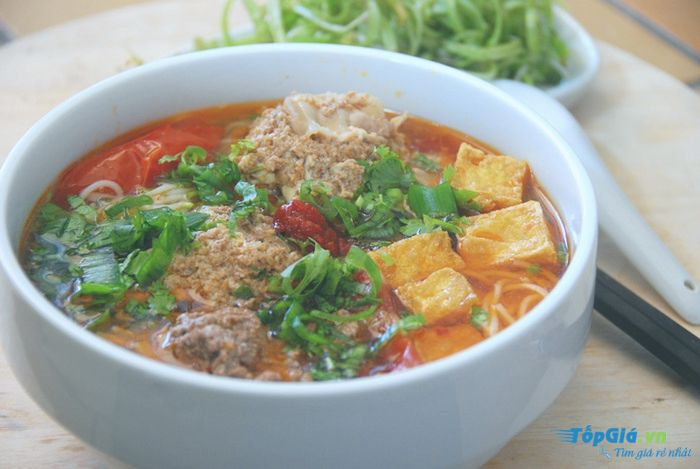onion: (48, 206, 140, 290)
rieu: (173, 307, 303, 386), (168, 226, 289, 309), (263, 108, 373, 194)
tofu: (441, 139, 538, 213), (456, 205, 559, 269), (363, 230, 473, 286)
tomato: (57, 105, 221, 205)
